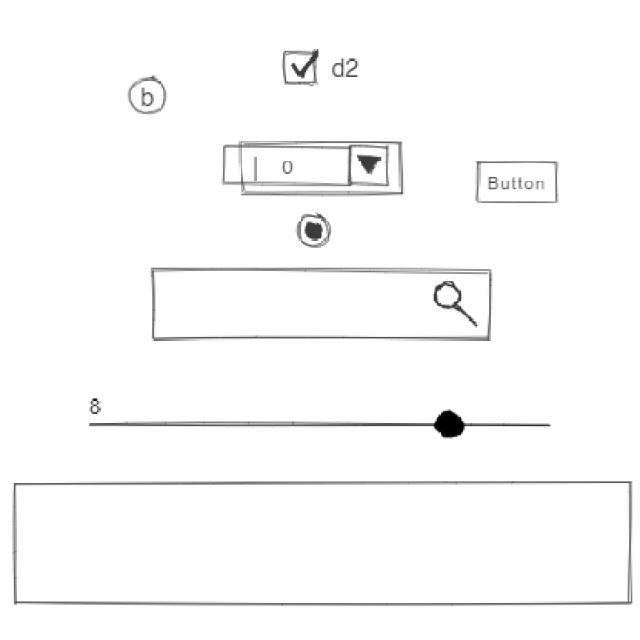button: (475, 159, 563, 208)
checkbox: (282, 47, 363, 90)
container: (10, 480, 636, 611)
icon-button: (128, 76, 168, 116)
radio: (105, 409, 554, 440), (295, 212, 334, 250)
search: (150, 265, 495, 344)
select: (219, 144, 392, 190)
